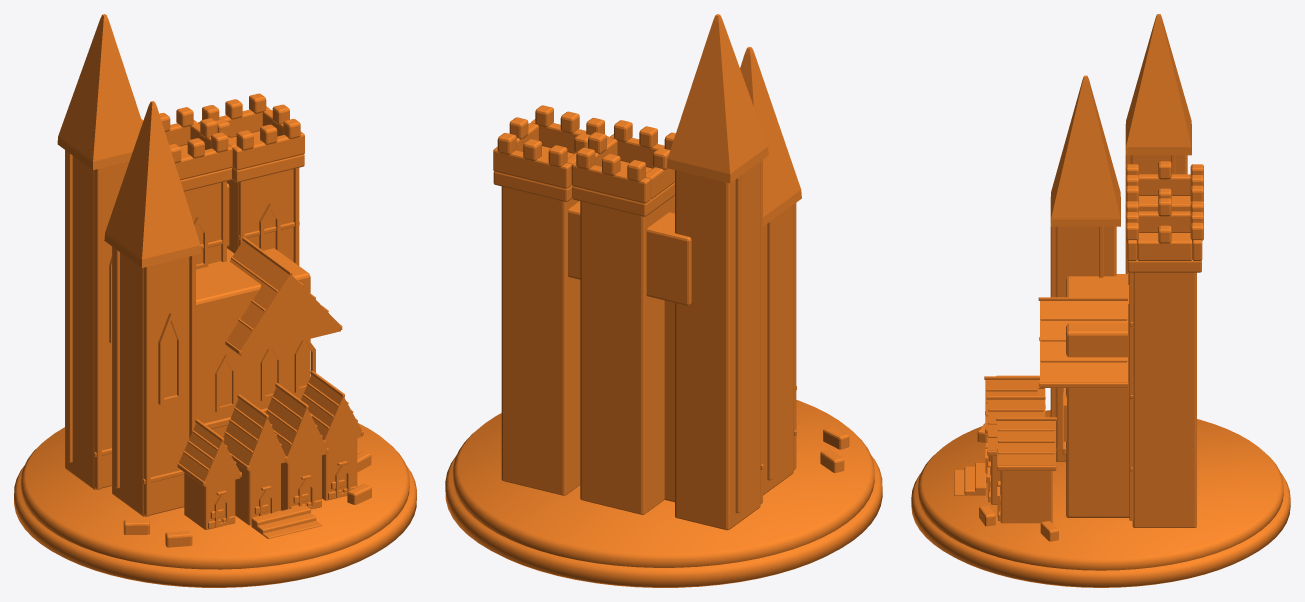
Rendered from metropolis-orange.fbx.
3 renders of one model, left to right at view 1: azimuth 30°, elevation 25°; view 2: azimuth 150°, elevation 25°; view 3: azimuth 270°, elevation 25°, orthographic. The views are drawn at different scales.
Visible parts, largest first — view 1: Metropolis_Moulded_Sculpt; view 2: Metropolis_Moulded_Sculpt; view 3: Metropolis_Moulded_Sculpt.
Part boxes in pixels (<box>): Metropolis_Moulded_Sculpt: <box>14,14,416,587</box>; Metropolis_Moulded_Sculpt: <box>445,14,882,587</box>; Metropolis_Moulded_Sculpt: <box>911,14,1290,587</box>.
Bounding box in the file's own units: 0.018 × 0.024 × 0.018.
